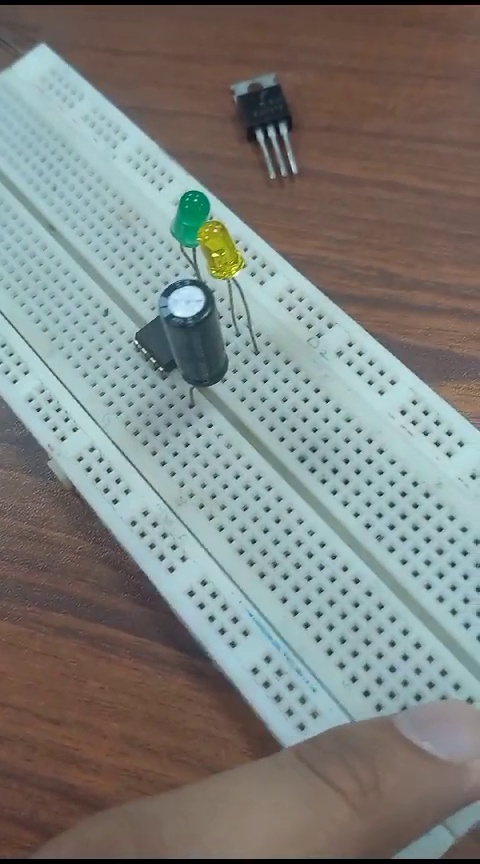IC: (122, 316, 175, 376)
LED: (194, 227, 247, 292), (168, 183, 214, 249)
capacitor: (154, 283, 239, 388)
voltage regulator: (227, 72, 302, 181)
